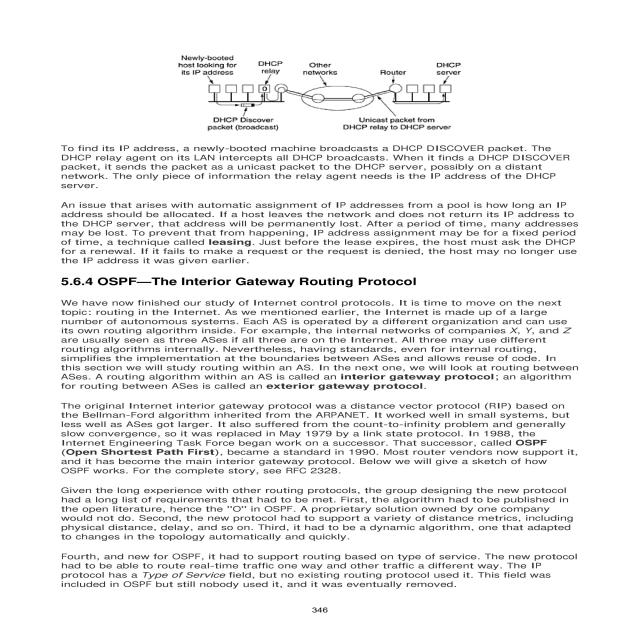diagram: (57, 39, 626, 194)
